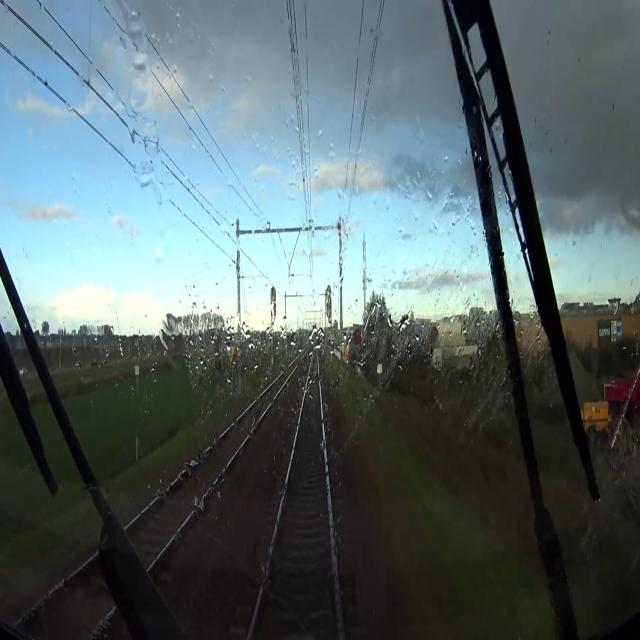rail-track: (131, 361, 296, 558), (252, 350, 338, 639)
